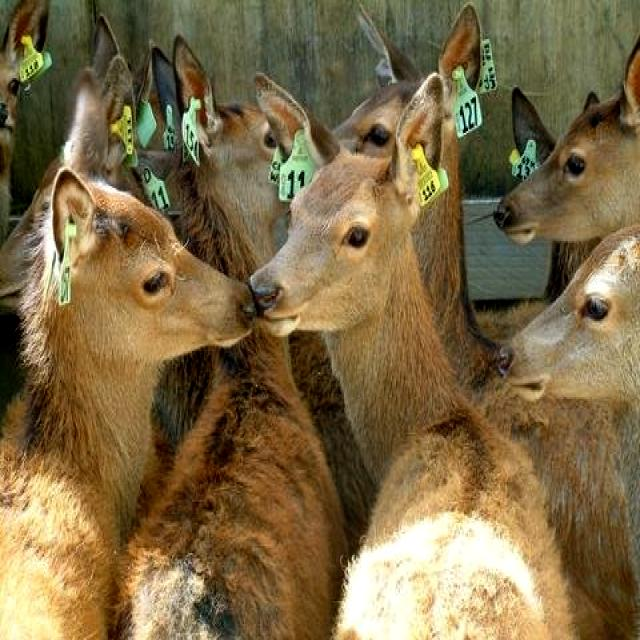deer: (35, 164, 264, 389), (259, 84, 450, 348), (492, 32, 640, 256), (498, 226, 640, 410)
